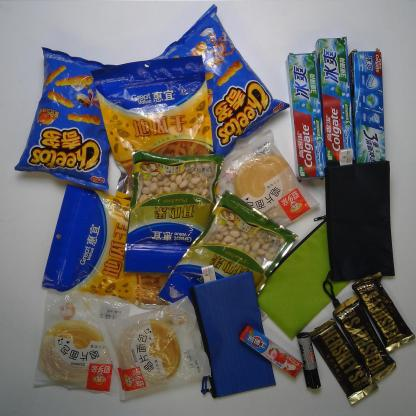Candy: (239, 322, 303, 379)
Chocolate: (310, 318, 378, 404), (334, 296, 395, 382), (353, 271, 415, 350)
Dessert: (98, 296, 211, 401), (212, 129, 319, 237), (28, 289, 130, 395)
Dried Fruit: (42, 184, 209, 317), (86, 55, 221, 202), (157, 190, 300, 306), (120, 146, 220, 276)
Personal Hygiene: (286, 51, 332, 180), (315, 38, 357, 163), (349, 48, 387, 162)
Puffed Food: (144, 5, 290, 156), (13, 44, 114, 192)
Stationery: (256, 214, 365, 340), (189, 270, 276, 395), (324, 159, 397, 280), (298, 330, 322, 389)
